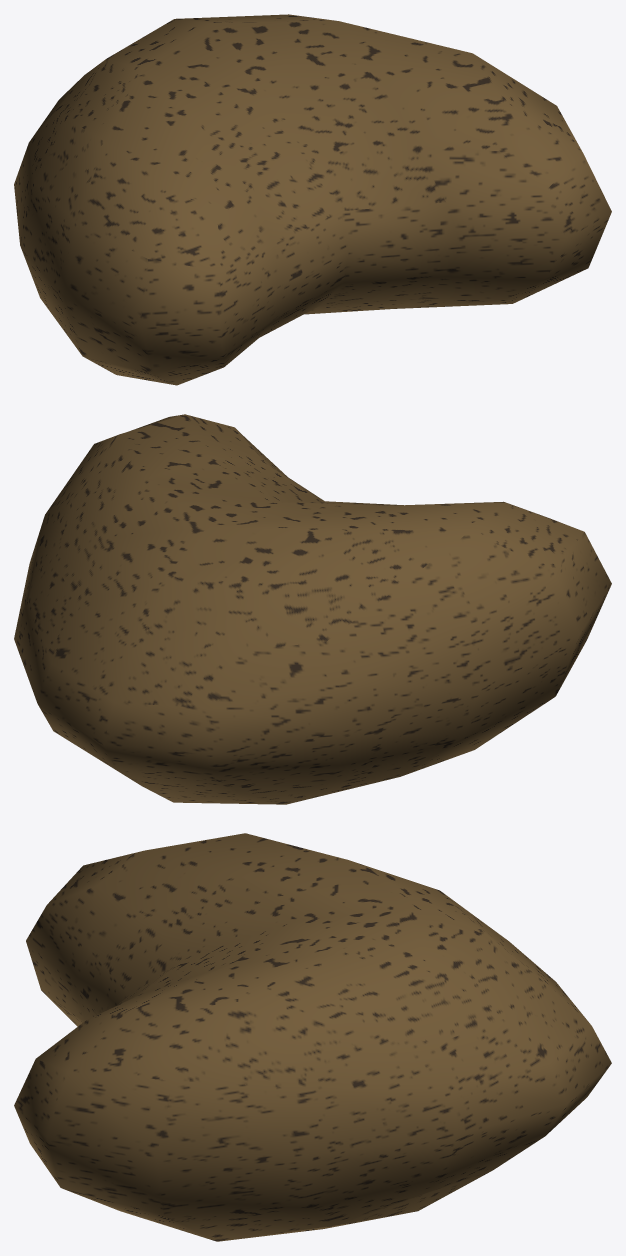
The model's file is DogFood3.fbx.
The picture shows the model from 3 angles, top to bottom: view 1: azimuth 30°, elevation 25°; view 2: azimuth 150°, elevation 25°; view 3: azimuth 270°, elevation 25°; orthographic projection. The views are drawn at different scales.
Visible parts, largest first — view 1: DogFood3; view 2: DogFood3; view 3: DogFood3.
Boxes of the visible parts, left/top/right/bottom form: DogFood3: left=14, top=14, right=611, bottom=385; DogFood3: left=14, top=414, right=611, bottom=804; DogFood3: left=14, top=833, right=611, bottom=1241.
Bounding box in the file's own units: 1.68 × 0.8618 × 1.66.
